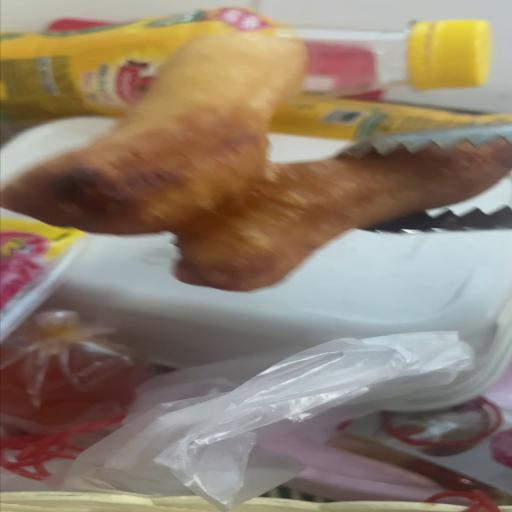street_burnt_good: (0, 25, 510, 291)
